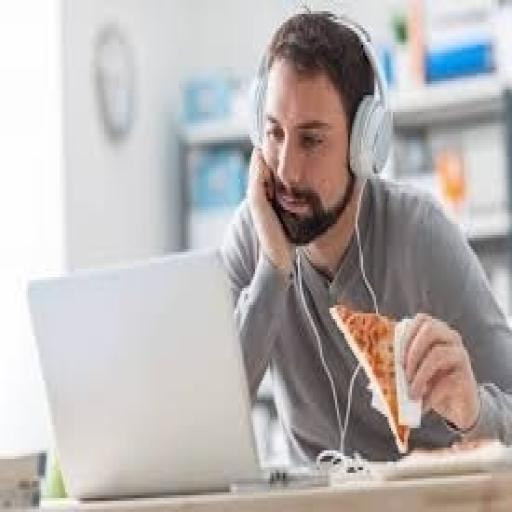eating: (218, 6, 510, 470)
